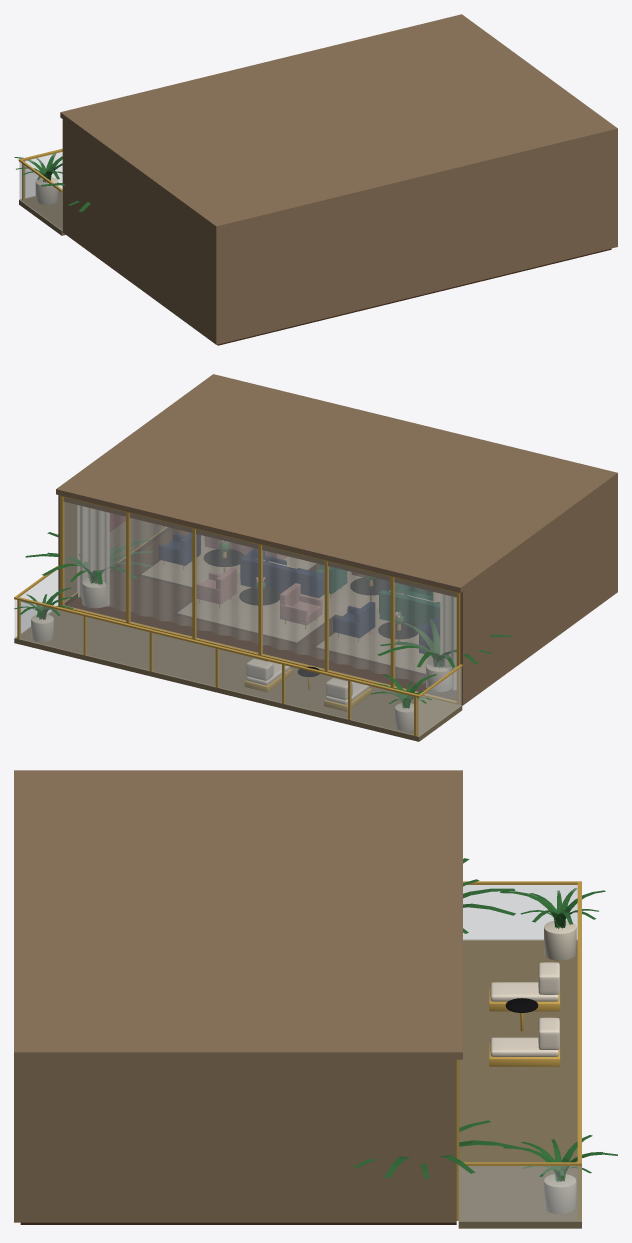
The model's file is room_lounge.glb.
The picture shows the model from 3 angles, top to bottom: view 1: azimuth 30°, elevation 25°; view 2: azimuth 150°, elevation 25°; view 3: azimuth 270°, elevation 25°; orthographic projection. The views are drawn at different scales.
Visible parts, largest first — view 1: RmLoungeS_LuxPlasterWarm, RmLoungeS_LuxGlass, RmLoungeS_LuxStoneFine, RmLoungeS_LuxHerringbone, RmLoungeF_LuxLeaf, RmLoungeF_LuxPot, RmLoungeS_LuxGold; view 2: RmLoungeS_LuxPlasterWarm, RmLoungeS_LuxGlass, RmLoungeS_LuxSheer, RmLoungeS_LuxStoneFine, RmLoungeS_LuxHerringbone, RmLoungeS_LuxGold, RmLoungeF_LuxRugWool, RmLoungeF_LuxVelvetNavy, RmLoungeF_LuxLeaf, RmLoungeS_LuxVelvetCream, RmLoungeF_LuxVelvetBlush, RmLoungeF_LuxPot (+5 smaller); view 3: RmLoungeS_LuxPlasterWarm, RmLoungeS_LuxStoneFine, RmLoungeS_LuxGlass, RmLoungeF_LuxLeaf, RmLoungeF_LuxLinen, RmLoungeS_LuxGold, RmLoungeF_LuxPot, RmLoungeS_LuxHerringbone, RmLoungeF_LuxGoldBrushed.
Boxes of the visible parts, box(x1,y1,x2,y2) form: RmLoungeS_LuxPlasterWarm: box(60, 14, 617, 344); RmLoungeS_LuxGlass: box(19, 152, 62, 230); RmLoungeS_LuxStoneFine: box(19, 191, 65, 235); RmLoungeS_LuxHerringbone: box(217, 248, 611, 345); RmLoungeF_LuxLeaf: box(14, 153, 90, 211); RmLoungeF_LuxPot: box(35, 177, 58, 204); RmLoungeS_LuxGold: box(18, 148, 62, 199); RmLoungeS_LuxPlasterWarm: box(56, 374, 617, 705); RmLoungeS_LuxGlass: box(15, 497, 461, 736); RmLoungeS_LuxSheer: box(83, 507, 455, 683); RmLoungeS_LuxStoneFine: box(14, 609, 462, 741); RmLoungeS_LuxHerringbone: box(66, 528, 456, 700); RmLoungeS_LuxGold: box(14, 495, 462, 736); RmLoungeF_LuxRugWool: box(141, 535, 439, 673); RmLoungeF_LuxVelvetNavy: box(159, 533, 439, 653); RmLoungeF_LuxLeaf: box(14, 532, 511, 708); RmLoungeS_LuxVelvetCream: box(77, 505, 456, 690); RmLoungeF_LuxVelvetBlush: box(197, 536, 403, 625); RmLoungeF_LuxPot: box(31, 578, 451, 730); RmLoungeS_LuxPlasterWarm: box(14, 770, 462, 1222); RmLoungeS_LuxStoneFine: box(458, 939, 581, 1228); RmLoungeS_LuxGlass: box(459, 885, 581, 1221); RmLoungeF_LuxLeaf: box(354, 858, 617, 1181); RmLoungeF_LuxLinen: box(490, 962, 559, 1056); RmLoungeS_LuxGold: box(456, 881, 581, 1220); RmLoungeF_LuxPot: box(544, 920, 576, 1213); RmLoungeS_LuxHerringbone: box(20, 1222, 456, 1224); RmLoungeF_LuxGoldBrushed: box(489, 987, 560, 1066).
Bounding box in the file's own units: 13.86 × 3.57 × 11.08.
